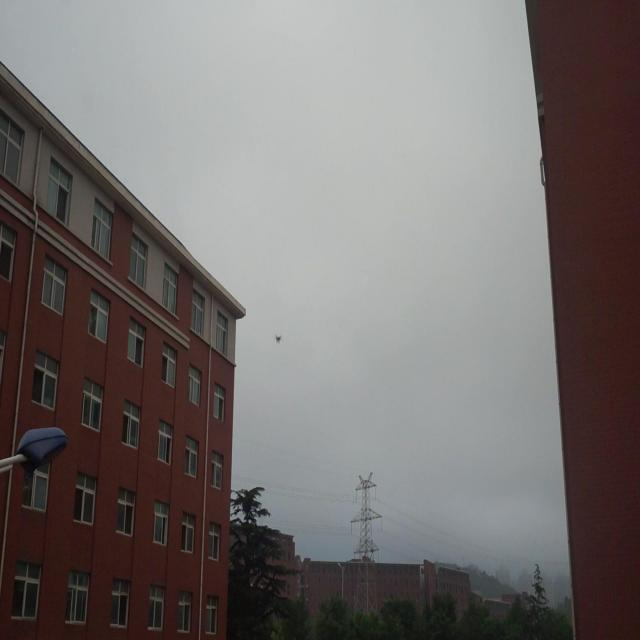UAV: (275, 334, 282, 344)
